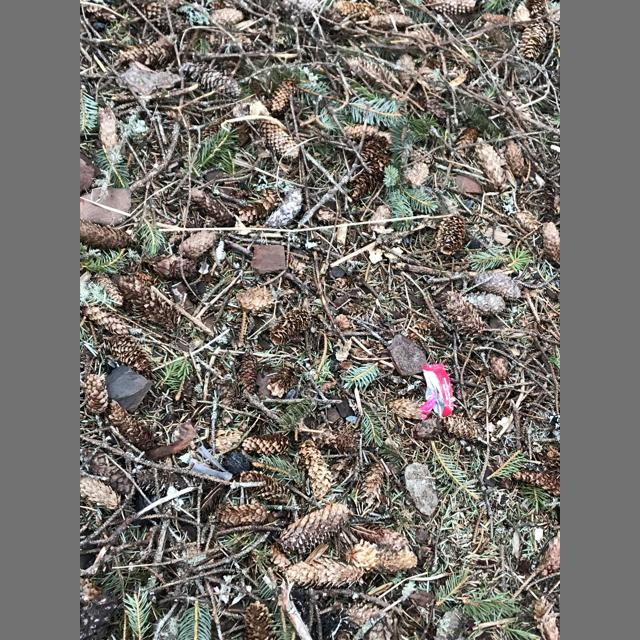litter: (419, 363, 454, 423), (191, 445, 232, 481)
